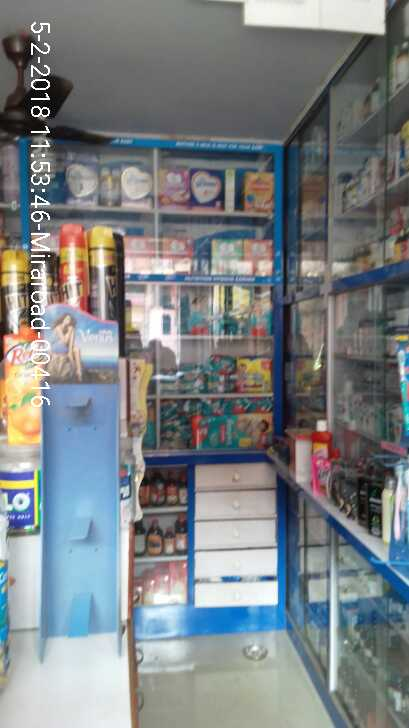pampers: (192, 416, 239, 447)
